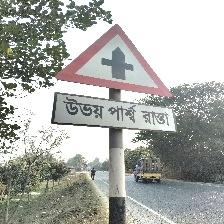Crossroad: (44, 16, 182, 134)
